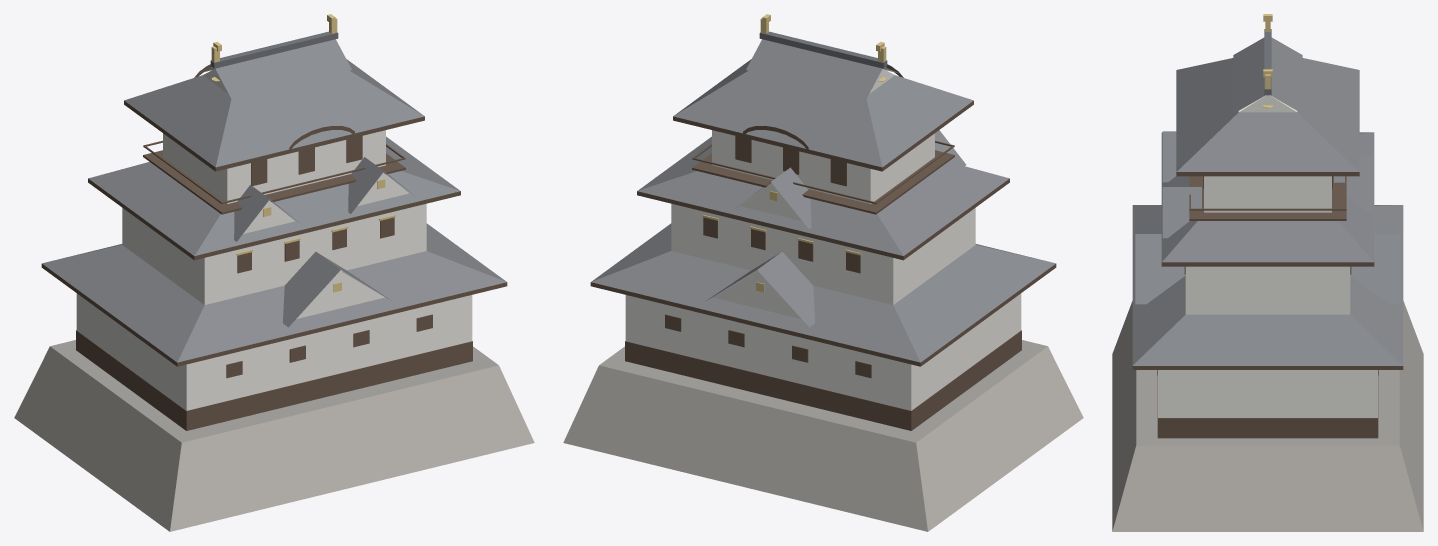
File: HK_HikoneCastle.glb
3 views of the same model, side by side, from view 1: azimuth 30°, elevation 25°; view 2: azimuth 150°, elevation 25°; view 3: azimuth 270°, elevation 25° (orthographic).
Visible parts, largest first — view 1: HK_HikoneCastle; view 2: HK_HikoneCastle; view 3: HK_HikoneCastle.
Boxes of the visible parts, box(x1,y1,x2,y2) form: HK_HikoneCastle: box(14, 14, 534, 531); HK_HikoneCastle: box(563, 14, 1083, 531); HK_HikoneCastle: box(1112, 14, 1423, 531).
Bounding box in the file's own units: 23 × 24.12 × 17.
